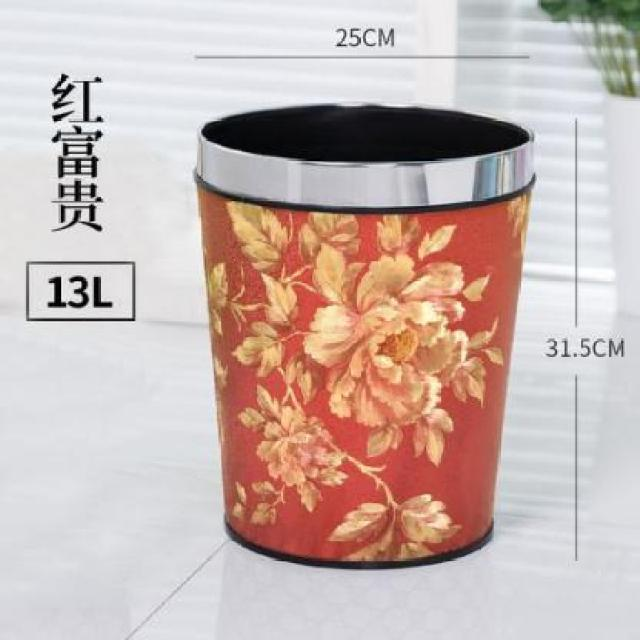dustbin: (189, 95, 539, 576)
